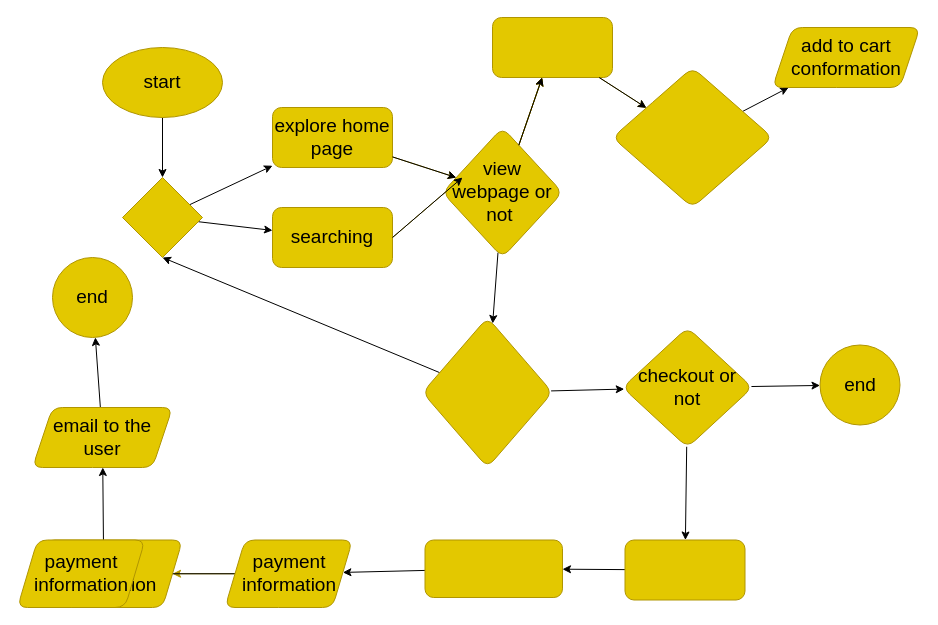
Image size: 938x625. Some labels were removed from this diagram. Each missing label, with the centre of its shape:
"add to cart or not" goes at pixel 692 137.
"continue shopping or not" goes at pixel 487 392.
"search or not" goes at pixel 162 217.
"view chart screen" goes at pixel 684 569.
"view payment screen" goes at pixel 493 568.
"webpage on" goes at pixel 552 47.
